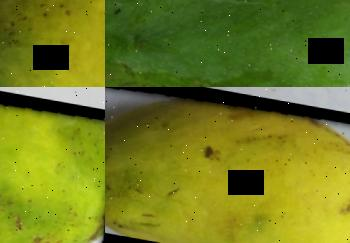PartiallyRipe: (0, 87, 105, 243), (0, 0, 105, 87)
Ripe: (105, 87, 350, 243)
Unripe: (105, 0, 350, 87)
